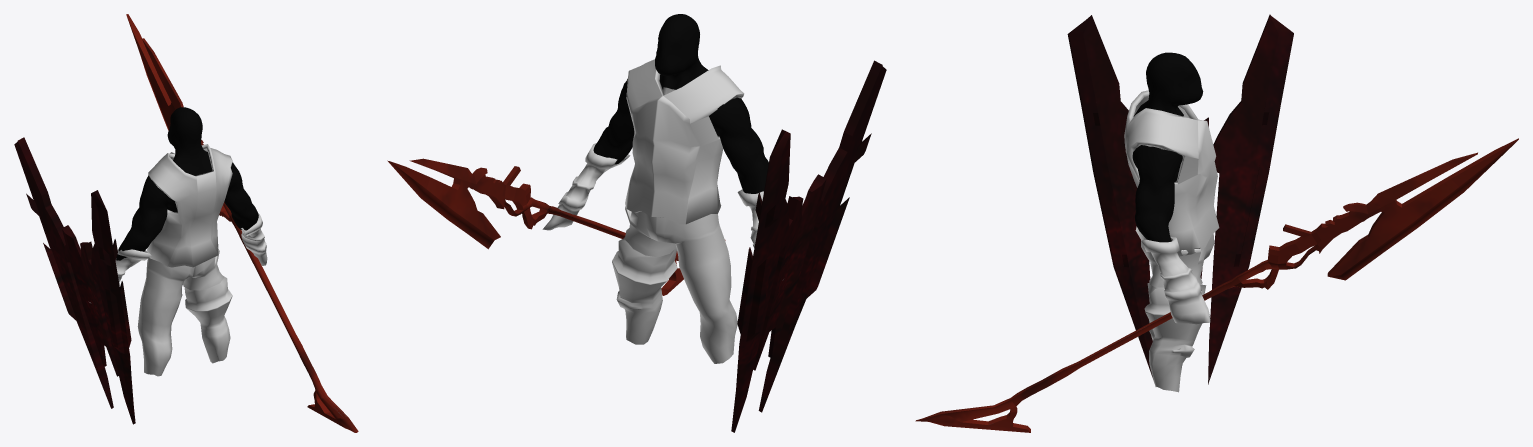
The model's file is Knight.fbx.
3 views of the same model, side by side, from view 1: azimuth 30°, elevation 25°; view 2: azimuth 150°, elevation 25°; view 3: azimuth 270°, elevation 25° (orthographic). The views are drawn at different scales.
Parts seen in each view (by area): view 1: polySurface176, polySurface170, polySurface174; view 2: polySurface176, polySurface170, polySurface174; view 3: polySurface170, polySurface176, polySurface174.
Boxes of the visible parts, x1,y1,x2,y2 form: polySurface176: (89, 107, 267, 376); polySurface170: (14, 137, 135, 424); polySurface174: (126, 14, 358, 432); polySurface176: (542, 14, 783, 363); polySurface170: (731, 60, 886, 432); polySurface174: (387, 158, 725, 295); polySurface170: (1067, 14, 1293, 384); polySurface176: (1124, 52, 1219, 392); polySurface174: (915, 138, 1518, 432).
Size of the model in its own units: 3.84 by 5.03 by 7.51.
